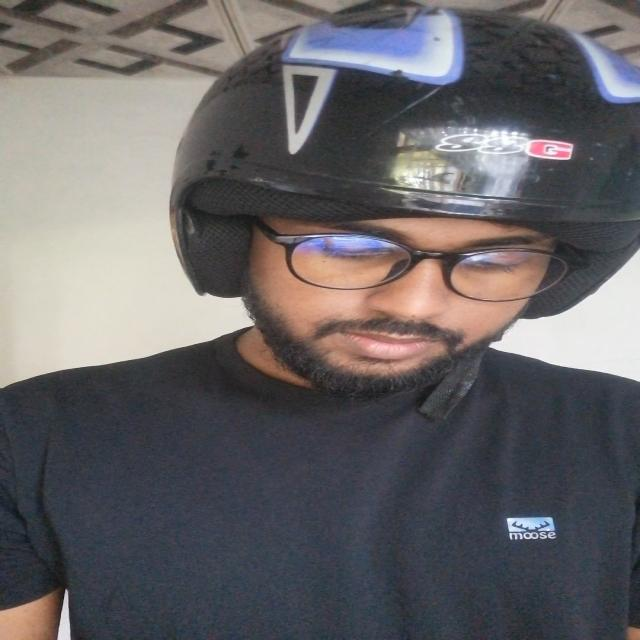Helmet_Wearer: (126, 0, 640, 409)
Person: (26, 0, 640, 640)
